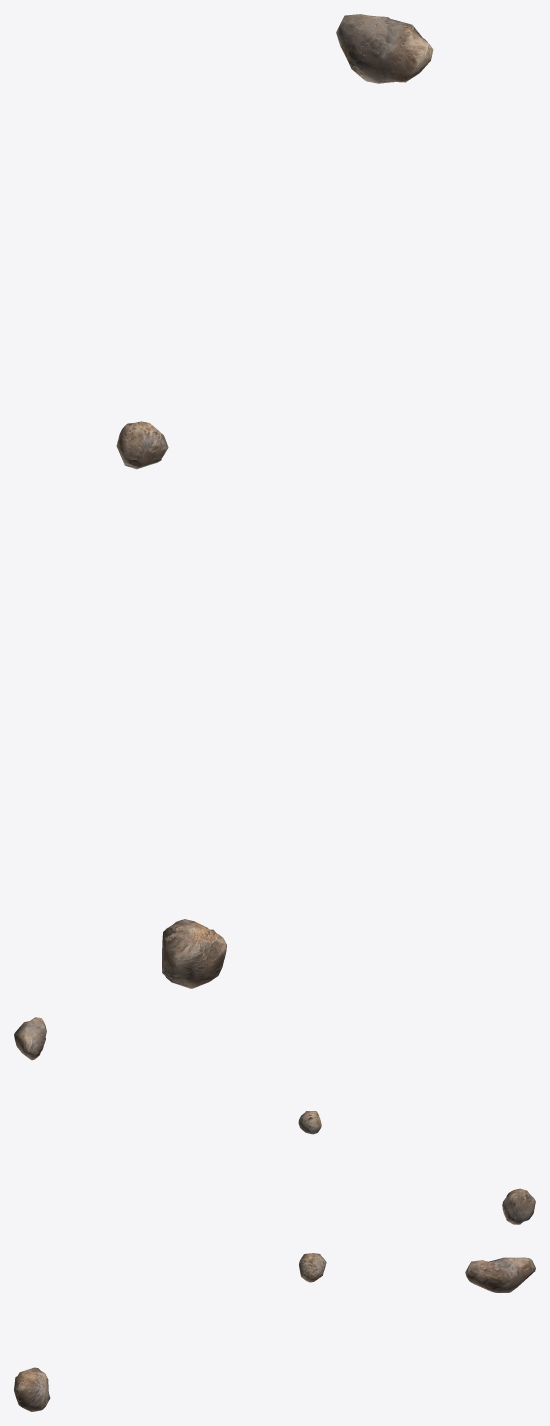
File: Asteroid2_Dust01.glb
3 renders of one model, top to bottom at view 1: azimuth 30°, elevation 25°; view 2: azimuth 150°, elevation 25°; view 3: azimuth 270°, elevation 25°, orthographic. The views are drawn at different scales.
Parts seen in each view (by area): view 1: Asteroid_03_LOD0, Asteroid_02_LOD0, Asteroid_01_LOD0; view 2: Asteroid_03_LOD0, Asteroid_02_LOD0, Asteroid_01_LOD0; view 3: Asteroid_03_LOD0, Asteroid_02_LOD0, Asteroid_01_LOD0.
Boxes of the visible parts, x1,y1,x2,y2 form: Asteroid_03_LOD0: (336,14,433,83); Asteroid_02_LOD0: (162,919,226,988); Asteroid_01_LOD0: (116,421,168,469); Asteroid_03_LOD0: (14,1017,46,1060); Asteroid_02_LOD0: (502,1188,535,1224); Asteroid_01_LOD0: (298,1111,321,1134); Asteroid_03_LOD0: (465,1257,535,1292); Asteroid_02_LOD0: (14,1367,50,1411); Asteroid_01_LOD0: (299,1253,326,1282).
Size of what is drawn, in the model's own units: 30.59 by 24.54 by 35.97.
Materials: 1 (1 with a texture image).
